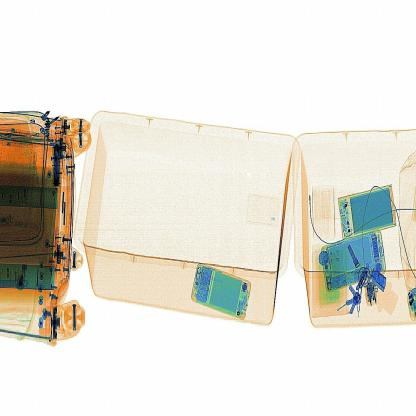scissors: (44, 138, 64, 193)
